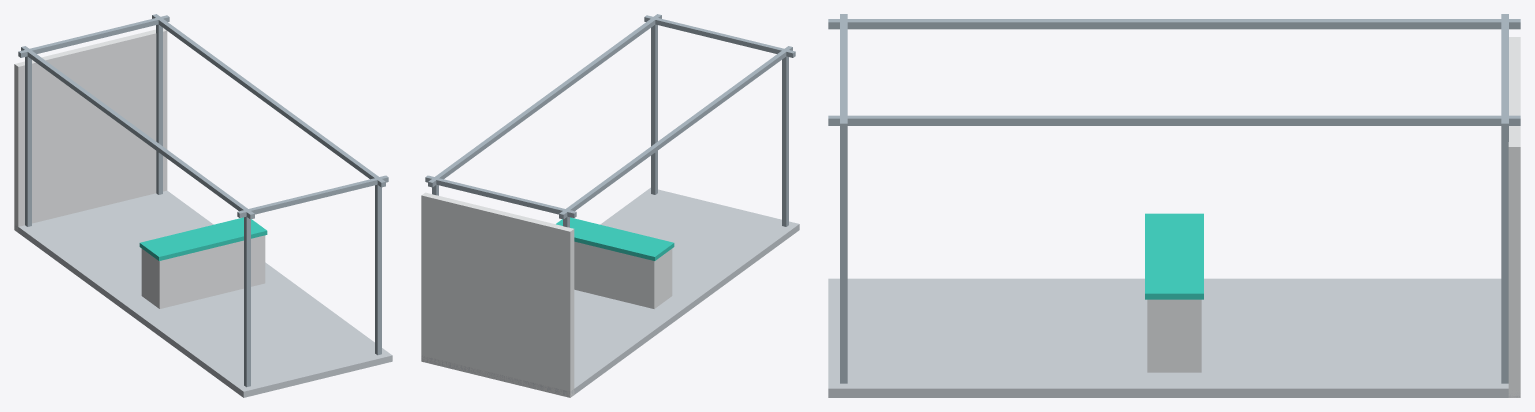
The picture shows the model from 3 angles, left to right: view 1: azimuth 30°, elevation 25°; view 2: azimuth 150°, elevation 25°; view 3: azimuth 270°, elevation 25°; orthographic projection. The views are drawn at different scales.
Parts seen in each view (by area): view 1: Exhibition Booth Concept; view 2: Exhibition Booth Concept; view 3: Exhibition Booth Concept.
Part boxes in pixels (x1,y1,x2,y2): Exhibition Booth Concept: (14, 14, 392, 397); Exhibition Booth Concept: (421, 14, 799, 397); Exhibition Booth Concept: (828, 14, 1520, 397).
Bounding box in the file's own units: 3 × 3.49 × 8.
